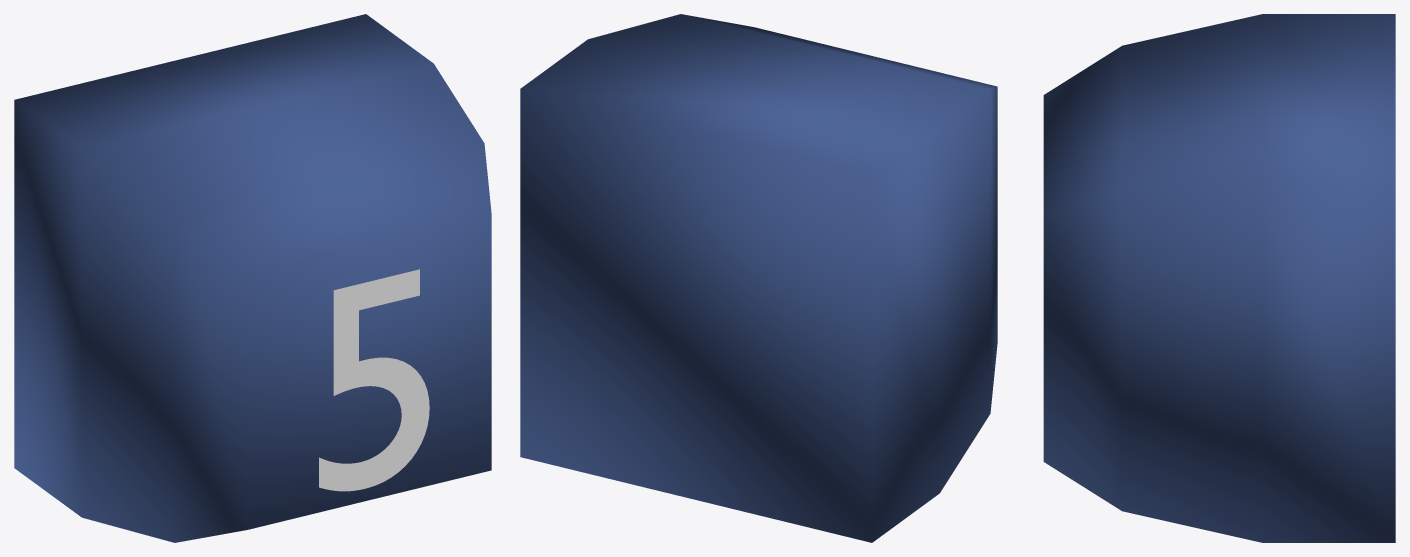
Rendered from lockbutton5.glb.
3 renders of one model, left to right at view 1: azimuth 30°, elevation 25°; view 2: azimuth 150°, elevation 25°; view 3: azimuth 270°, elevation 25°, orthographic. The views are drawn at different scales.
Parts seen in each view (by area): view 1: Text.004; view 2: Text.004; view 3: Text.004.
Boxes of the visible parts, bbox=[...] form: Text.004: bbox=[14, 14, 491, 542]; Text.004: bbox=[520, 14, 997, 542]; Text.004: bbox=[1043, 14, 1395, 542].
Bounding box in the file's own units: 0.0488 × 0.0488 × 0.0452.
